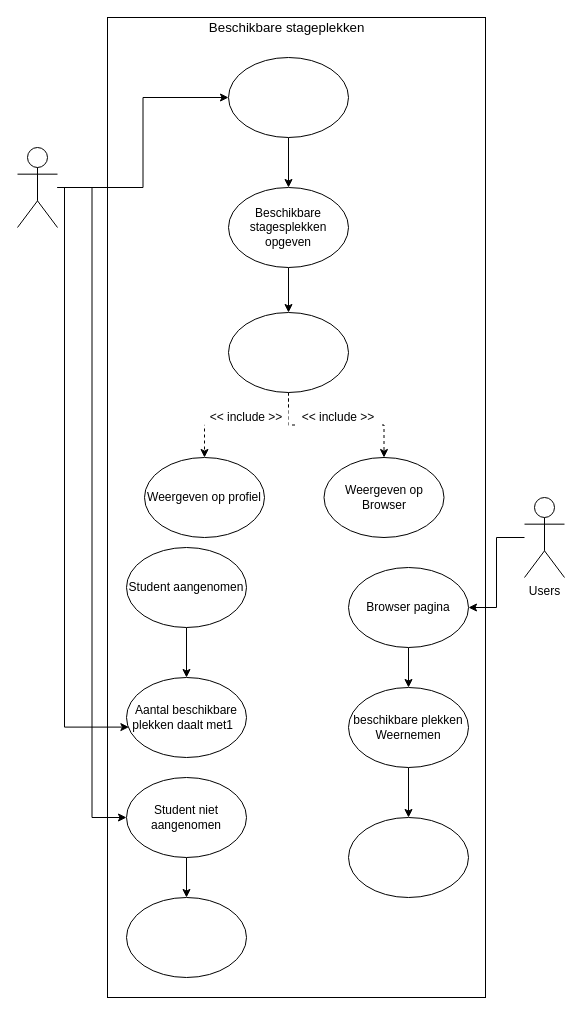
Image size: 582x1015. Some labels were removed from this diagram. Here are the shapes that lost their labels. From the top down, the box of each, then its label:
(228, 56, 348, 138): Profiel pagina
(16, 146, 58, 228): Bedrijf
(228, 312, 348, 392): Opgegeven gegevens Verwerken
(348, 816, 468, 898): Actie uitvoeren
(126, 896, 246, 978): Aantal beschikbare plekken stijgt met1
